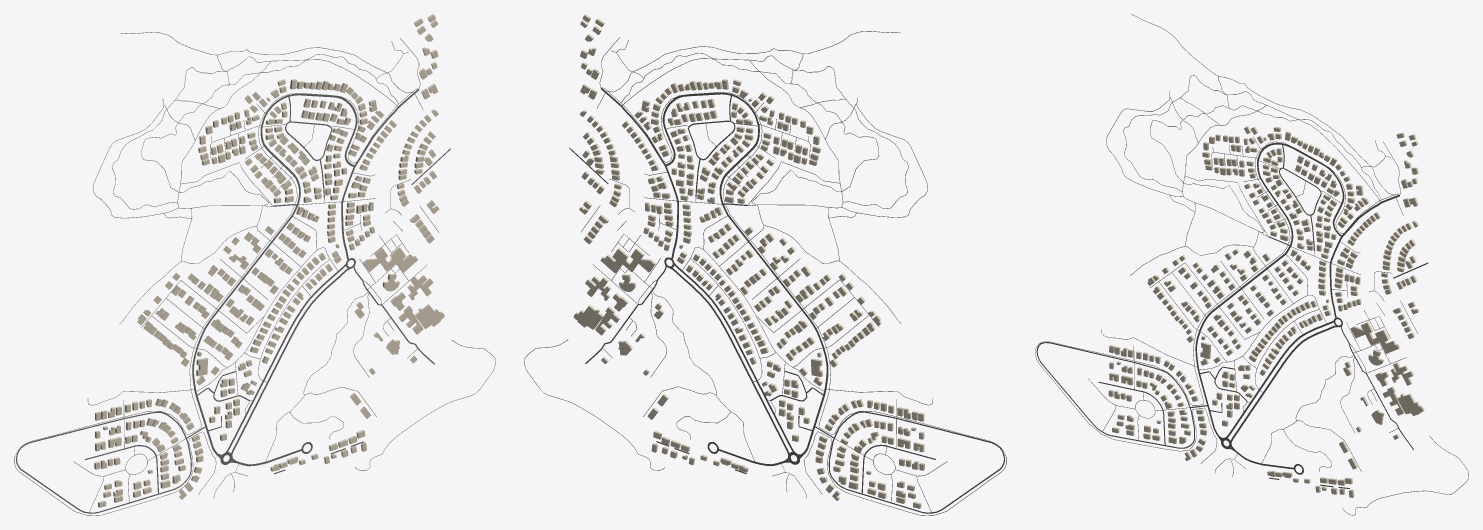
Rendered from historic-palestine-08_28_3499_3222.glb.
3 renders of one model, left to right at view 1: azimuth 30°, elevation 25°; view 2: azimuth 150°, elevation 25°; view 3: azimuth 330°, elevation 25°, orthographic. The views are drawn at different scales.
Visible parts, largest first — view 1: Road בית אל.001, Road .101, Road אגוז, Building_.072; view 2: Road בית אל.001, Road .101, Road אגוז, Building_.072; view 3: Road בית אל.001, Road .101, Road אגוז, Building_.072.
Boxes of the visible parts, bbox=[...] form: Road בית אל.001: bbox=[192, 93, 357, 454]; Road .101: bbox=[14, 93, 398, 515]; Road אגוז: bbox=[16, 411, 191, 513]; Building_.072: bbox=[363, 247, 417, 272]; Road בית אל.001: bbox=[662, 92, 828, 454]; Road .101: bbox=[621, 92, 1006, 515]; Road אגוז: bbox=[828, 411, 1004, 513]; Building_.072: bbox=[600, 248, 655, 272]; Road בית אל.001: bbox=[1195, 142, 1344, 435]; Road .101: bbox=[1035, 141, 1381, 463]; Road אגוז: bbox=[1036, 342, 1194, 448]; Building_.072: bbox=[1350, 322, 1400, 353].
Size of the model in its own units: 1336 by 1320 by 8.7.
